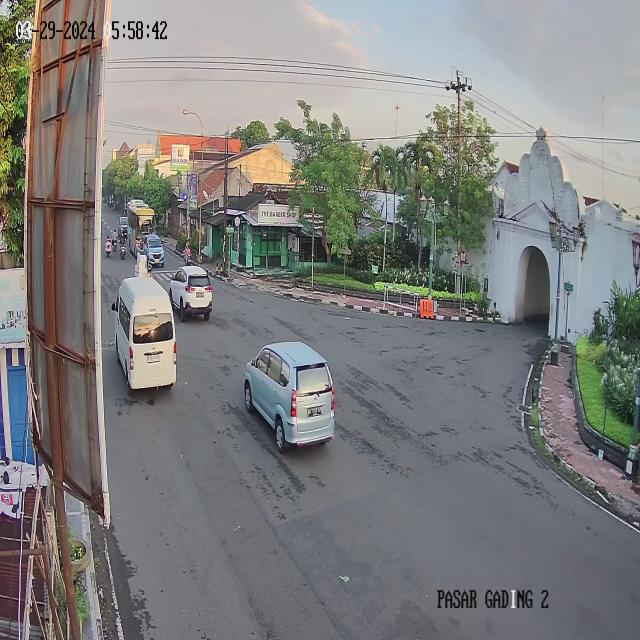bus: (110, 270, 179, 399), (127, 203, 156, 258), (127, 197, 149, 224)
car: (243, 339, 336, 453), (166, 264, 213, 325), (141, 230, 166, 268), (118, 215, 130, 242)
motorcycle: (134, 251, 154, 286), (182, 245, 193, 268), (119, 231, 126, 259), (104, 233, 111, 258), (112, 226, 118, 253)
